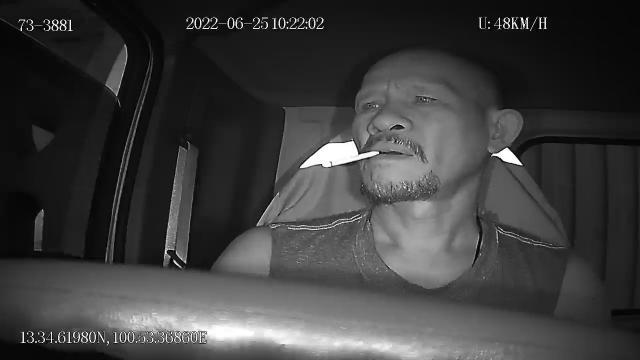SafeDriving: (406, 84, 446, 111), (354, 91, 390, 118)
Smoking: (322, 148, 378, 170)
